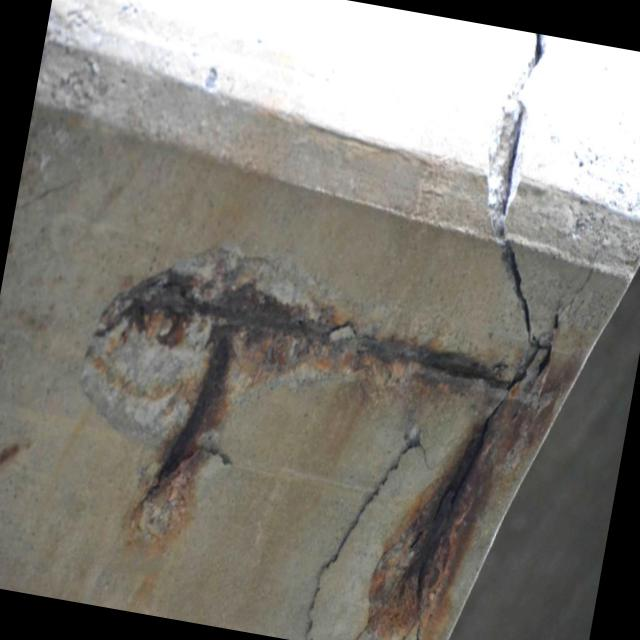spalling: (72, 245, 517, 539), (388, 395, 502, 607), (484, 33, 547, 349)
